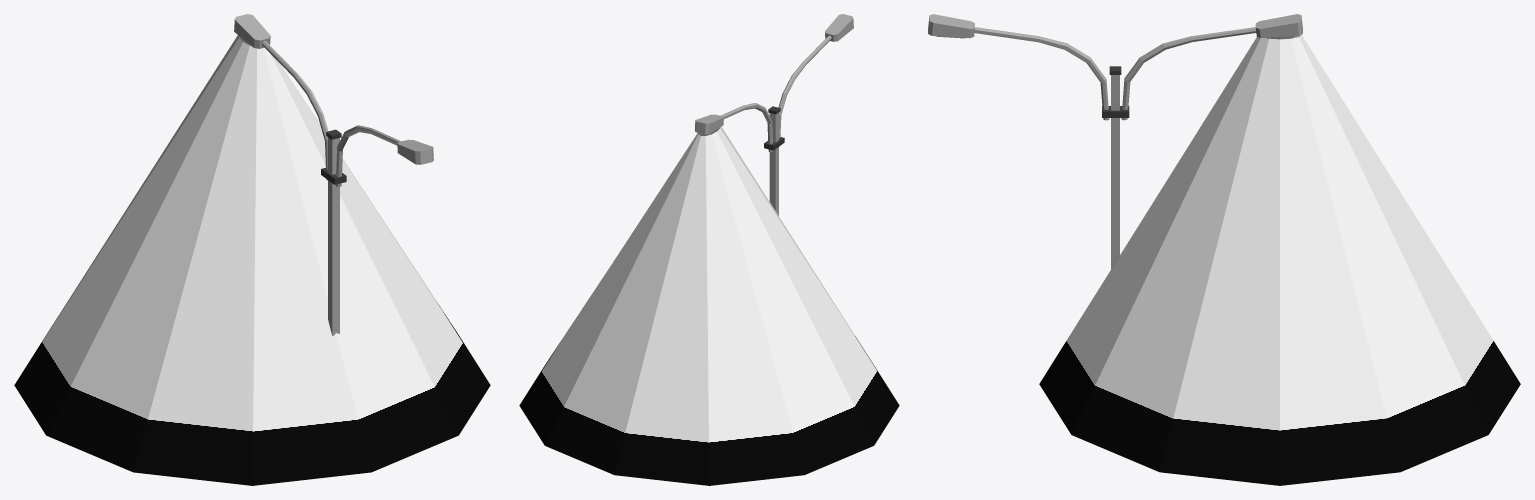
Rendered from PostLight-Double.fbx.
3 renders of one model, left to right at view 1: azimuth 30°, elevation 25°; view 2: azimuth 150°, elevation 25°; view 3: azimuth 270°, elevation 25°, orthographic. The views are drawn at different scales.
Visible parts, largest first — view 1: Volumetric, PostLight-01; view 2: Volumetric, PostLight-01; view 3: Volumetric, PostLight-01.
Boxes of the visible parts, box(x1,y1,x2,y2) form: Volumetric: box(14, 35, 490, 485); PostLight-01: box(234, 14, 433, 336); Volumetric: box(519, 126, 899, 485); PostLight-01: box(694, 14, 853, 215); Volumetric: box(1039, 34, 1520, 485); PostLight-01: box(928, 14, 1302, 272).
Size of what is drawn, in the model's own units: 10.19 by 8.55 by 12.54.
